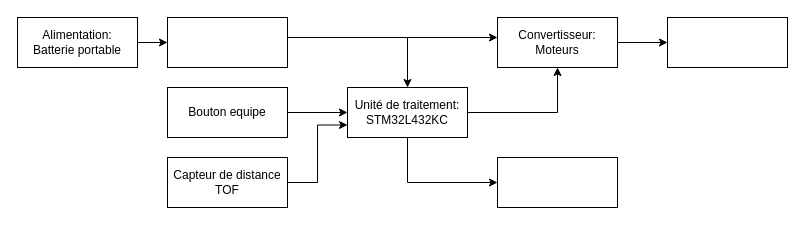
Some shapes in this 805 by 225 pixel diagram are drawn without their labels. The centre of each missing label's shape, as x and y in pixels:
"Bouton ON/OFF" goes at (x=227, y=42).
"LEDs Equipe" goes at (x=557, y=182).
"Roues" goes at (x=727, y=42).
